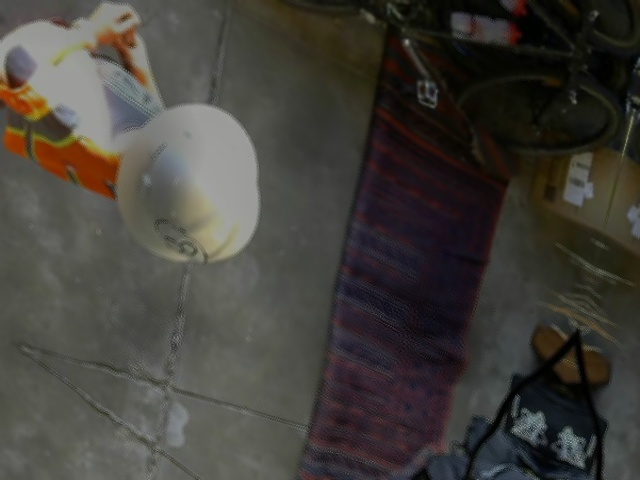eight: (151, 212, 210, 269)
